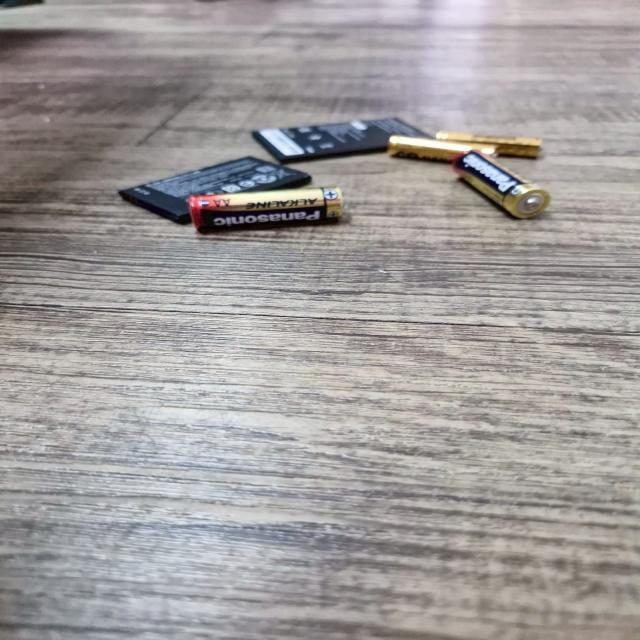battery: (188, 194, 361, 233)
